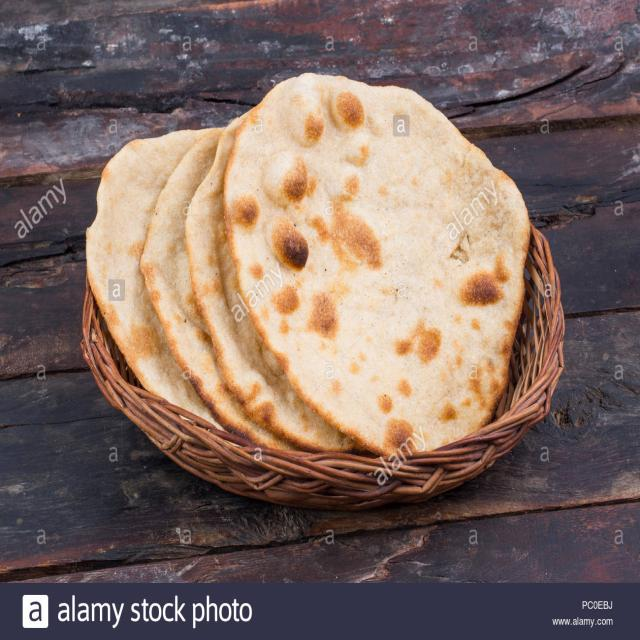roti: (224, 74, 530, 455), (186, 118, 358, 450), (141, 129, 274, 436), (87, 130, 212, 417)
